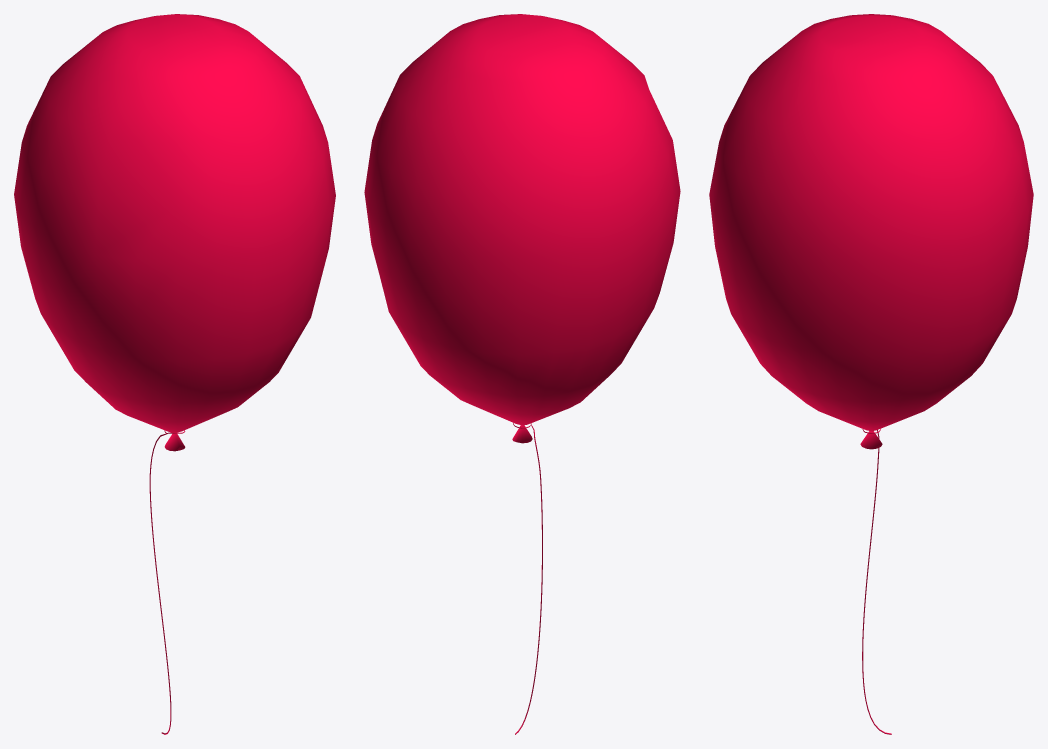
File: Globos.fbx
The picture shows the model from 3 angles, left to right: view 1: azimuth 30°, elevation 25°; view 2: azimuth 150°, elevation 25°; view 3: azimuth 270°, elevation 25°; orthographic projection.
Visible parts, largest first — view 1: Globo1; view 2: Globo1; view 3: Globo1.
Boxes of the visible parts, x1,y1,x2,y2 form: Globo1: (14,14,335,734); Globo1: (364,14,680,734); Globo1: (709,14,1033,734).
Bounding box in the file's own units: 138 × 334 × 140.
